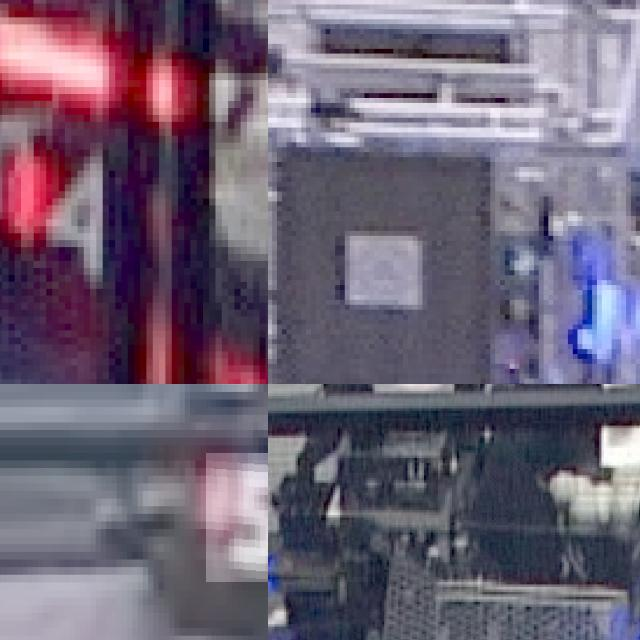B1: (268, 569, 298, 640)
R5: (205, 452, 268, 582)
